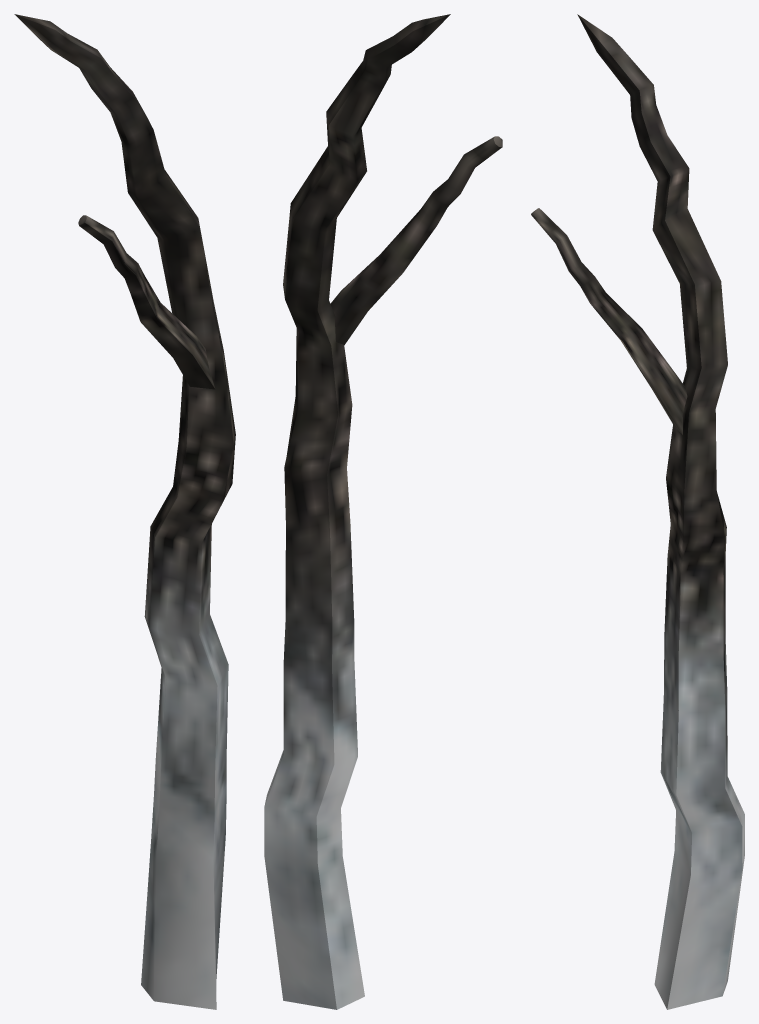
File: snow_v_a01a.fbx
3 views of the same model, side by side, from view 1: azimuth 30°, elevation 25°; view 2: azimuth 150°, elevation 25°; view 3: azimuth 330°, elevation 25° (orthographic). The views are drawn at different scales.
Visible parts, largest first — view 1: v_a01a; view 2: v_a01a; view 3: v_a01a.
Boxes of the visible parts, x1,y1,x2,y2 form: v_a01a: [14, 14, 235, 1009]; v_a01a: [264, 14, 502, 1009]; v_a01a: [531, 14, 744, 1009].
Bounding box in the file's own units: 21.6 × 105 × 12.41.
